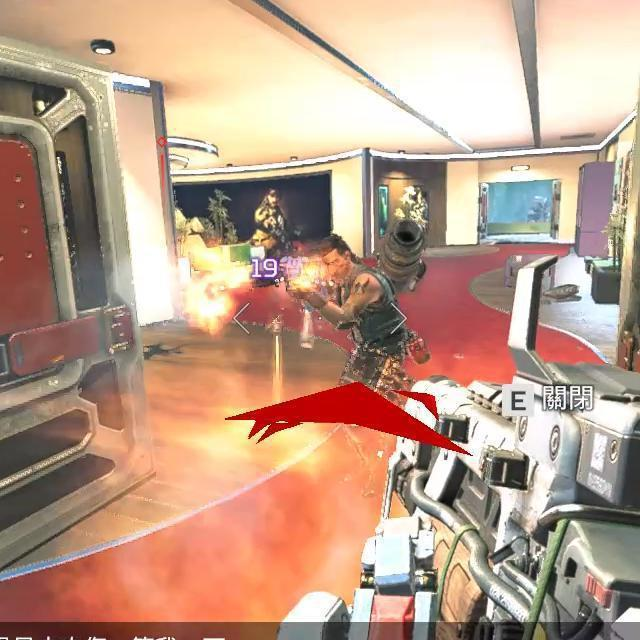avatar: (313, 232, 407, 389)
